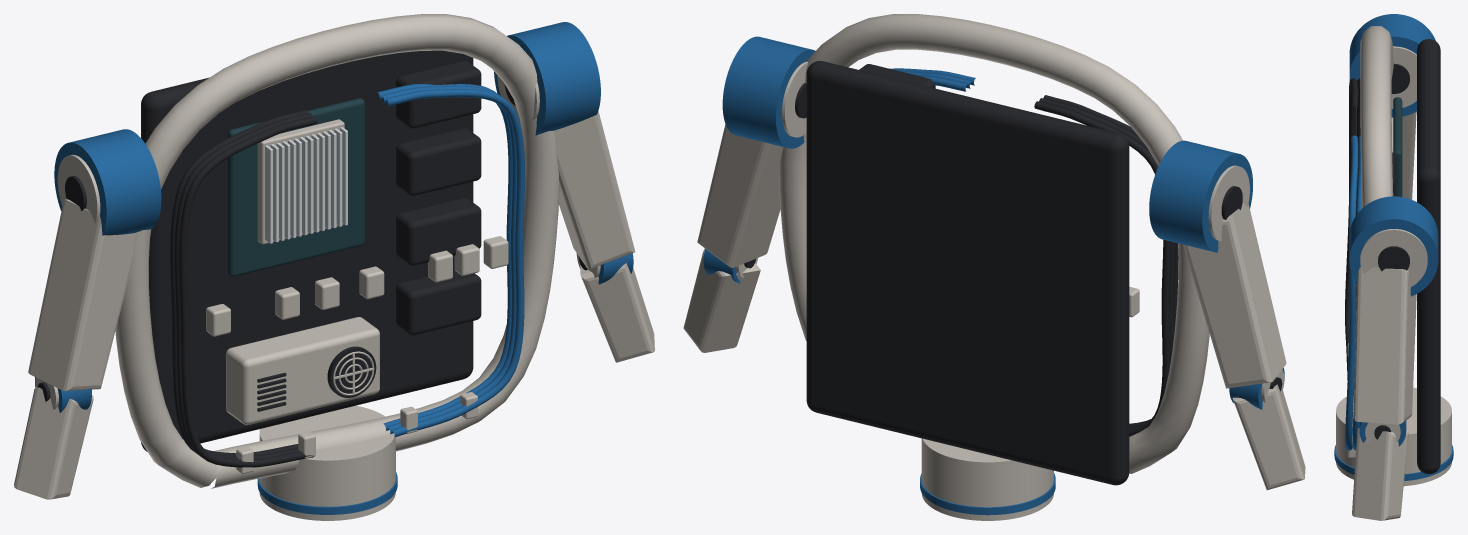
Rendered from anatomy-19.glb.
3 views of the same model, side by side, from view 1: azimuth 30°, elevation 25°; view 2: azimuth 150°, elevation 25°; view 3: azimuth 270°, elevation 25° (orthographic). The views are drawn at different scales.
Visible parts, largest first — view 1: frame, limbs, harness, bays, shoulders, power, waist, sink, board, plugs, power-grille, clips; view 2: frame, limbs, shoulders, waist, harness; view 3: limbs, frame, shoulders, harness, waist, board.
Boxes of the visible parts, x1,y1,x2,y2 form: frame: (115,14,559,488); limbs: (14,111,654,499); harness: (170,84,524,467); bays: (396,60,481,335); shoulders: (54,22,600,235); power: (226,317,379,425); waist: (257,405,397,520); sink: (257,119,347,244); board: (227,98,364,276); plugs: (206,236,508,336); power-grille: (327,346,376,397); clips: (236,392,477,473); frame: (779,14,1209,485); limbs: (683,124,1305,490); shoulders: (722,36,1252,252); waist: (920,438,1055,520); harness: (890,68,1178,436); limbs: (1352,106,1416,520); frame: (1360,26,1440,474); shoulders: (1349,14,1438,296); harness: (1345,78,1361,450); waist: (1334,387,1453,486); board: (1393,97,1402,196).
Size of the model in its own units: 2.88 by 2.02 by 0.546.
